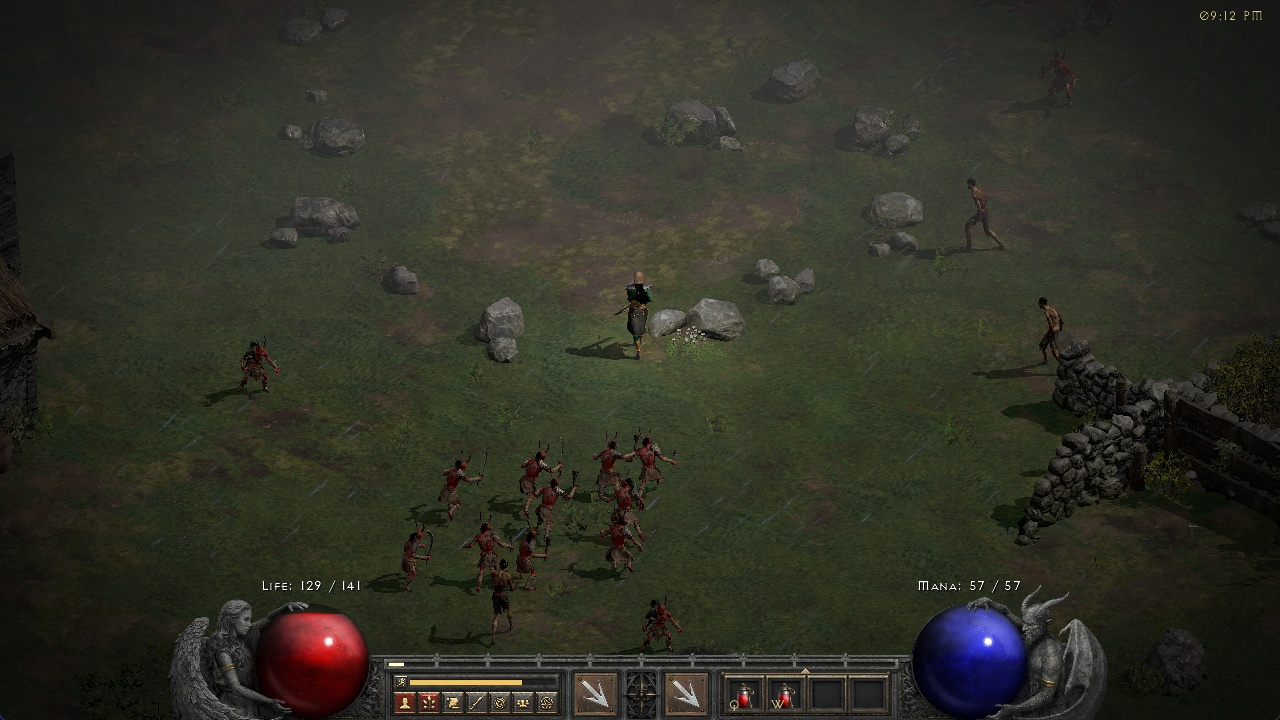fallen: (233, 332, 289, 398), (630, 592, 685, 652), (435, 454, 489, 515), (1041, 44, 1088, 109), (396, 516, 438, 587), (632, 429, 683, 478), (538, 474, 586, 524), (516, 522, 550, 588), (597, 521, 643, 568), (588, 432, 631, 479), (465, 516, 508, 561), (511, 437, 561, 472), (604, 484, 645, 505)
